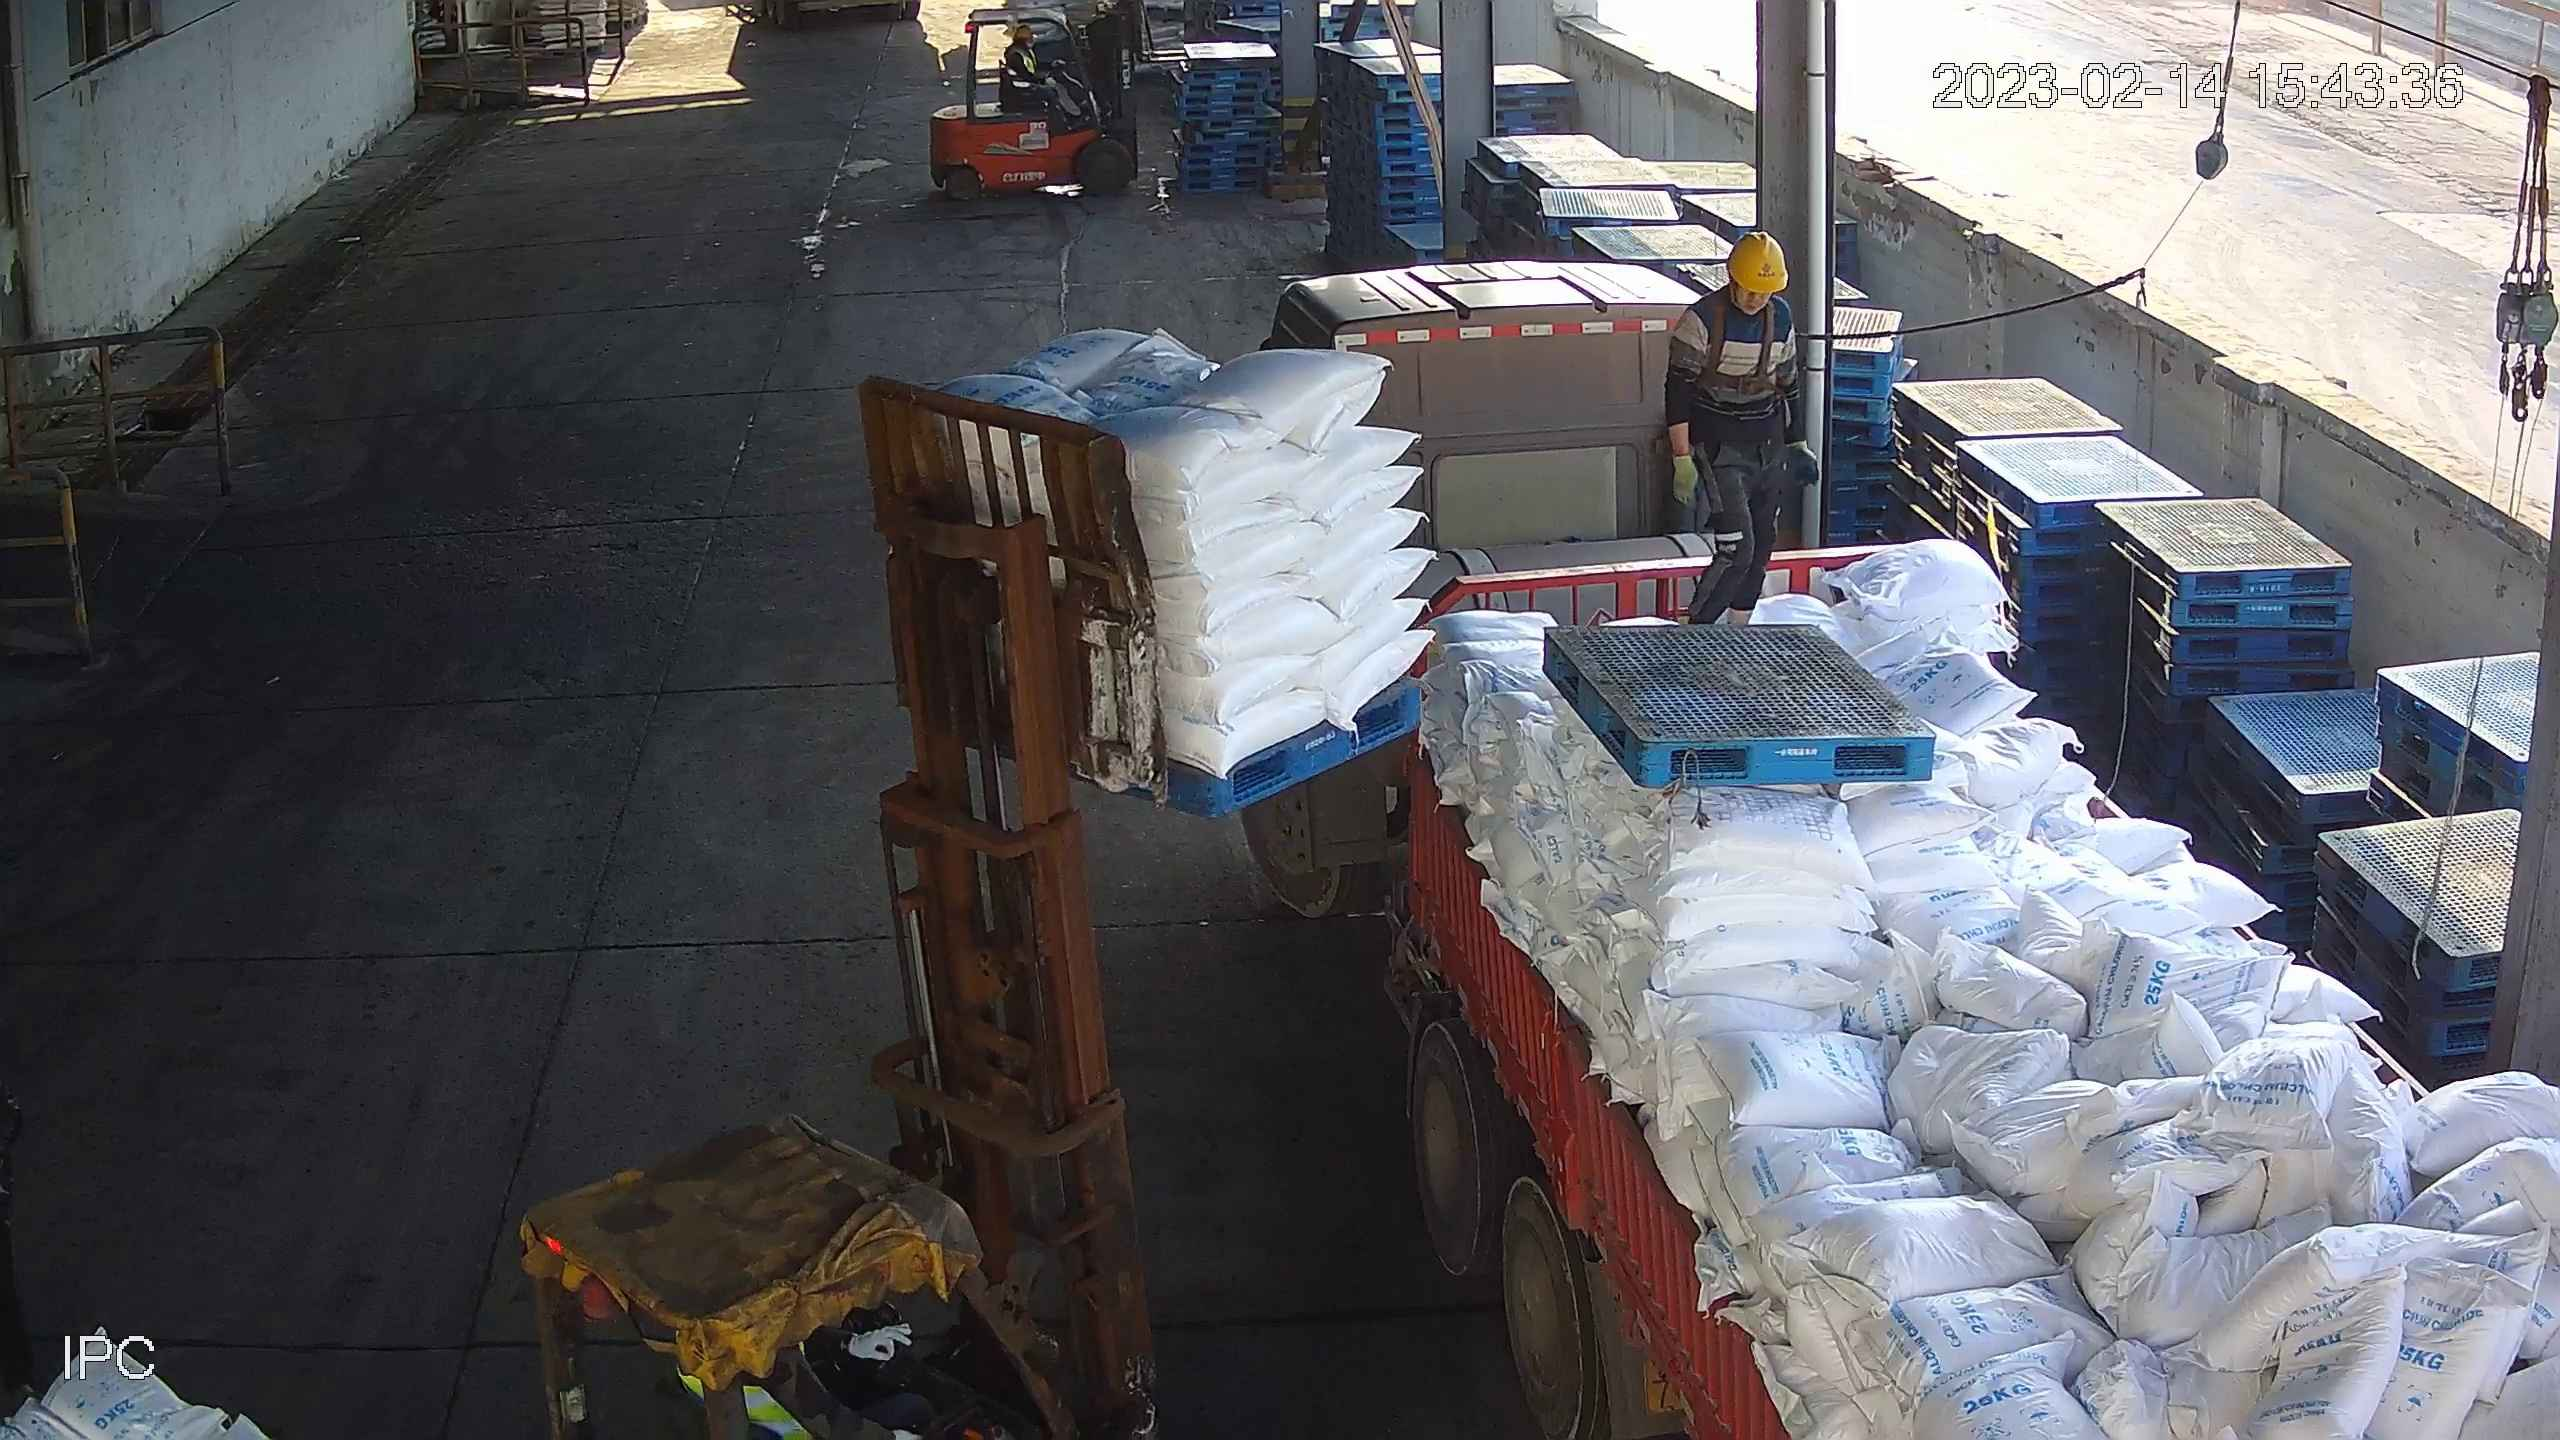belt: (1702, 311, 1792, 392)
head: (1692, 241, 1797, 339), (993, 25, 1051, 69)
helmet: (1721, 236, 1788, 286), (1004, 18, 1034, 39)
people: (1660, 234, 1814, 627), (990, 25, 1077, 115)
truck: (1244, 258, 2560, 1440)
